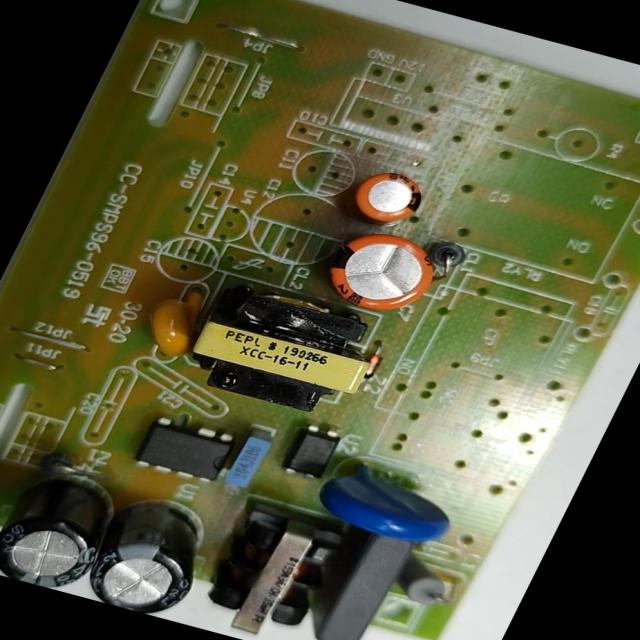Cap1: (306, 217, 454, 326)
Cap2: (337, 158, 441, 237)
Cap3: (72, 485, 231, 622)
Cap4: (0, 459, 137, 597)
MOSFET: (122, 406, 247, 494)
Mov: (300, 449, 474, 555)
Resistor: (366, 546, 464, 613)
Transformer: (167, 270, 398, 426), (176, 488, 363, 640)
